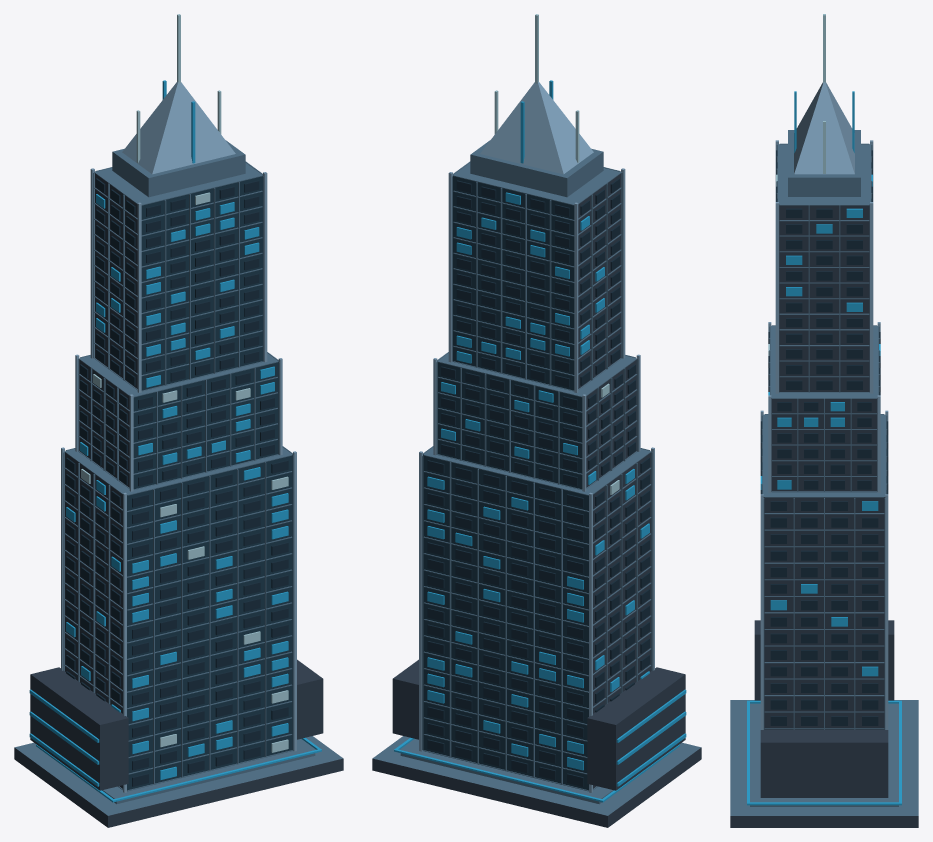
Rendered from eish-tower.glb.
3 renders of one model, left to right at view 1: azimuth 30°, elevation 25°; view 2: azimuth 150°, elevation 25°; view 3: azimuth 270°, elevation 25°, orthographic.
Parts seen in each view (by area): view 1: Eish Tower; view 2: Eish Tower; view 3: Eish Tower.
Part boxes in pixels (left/top/right/bottom): Eish Tower: left=14, top=14, right=343, bottom=827; Eish Tower: left=372, top=14, right=701, bottom=827; Eish Tower: left=730, top=14, right=918, bottom=827.
Size of the model in its own units: 9 by 27.4 by 6.2.
